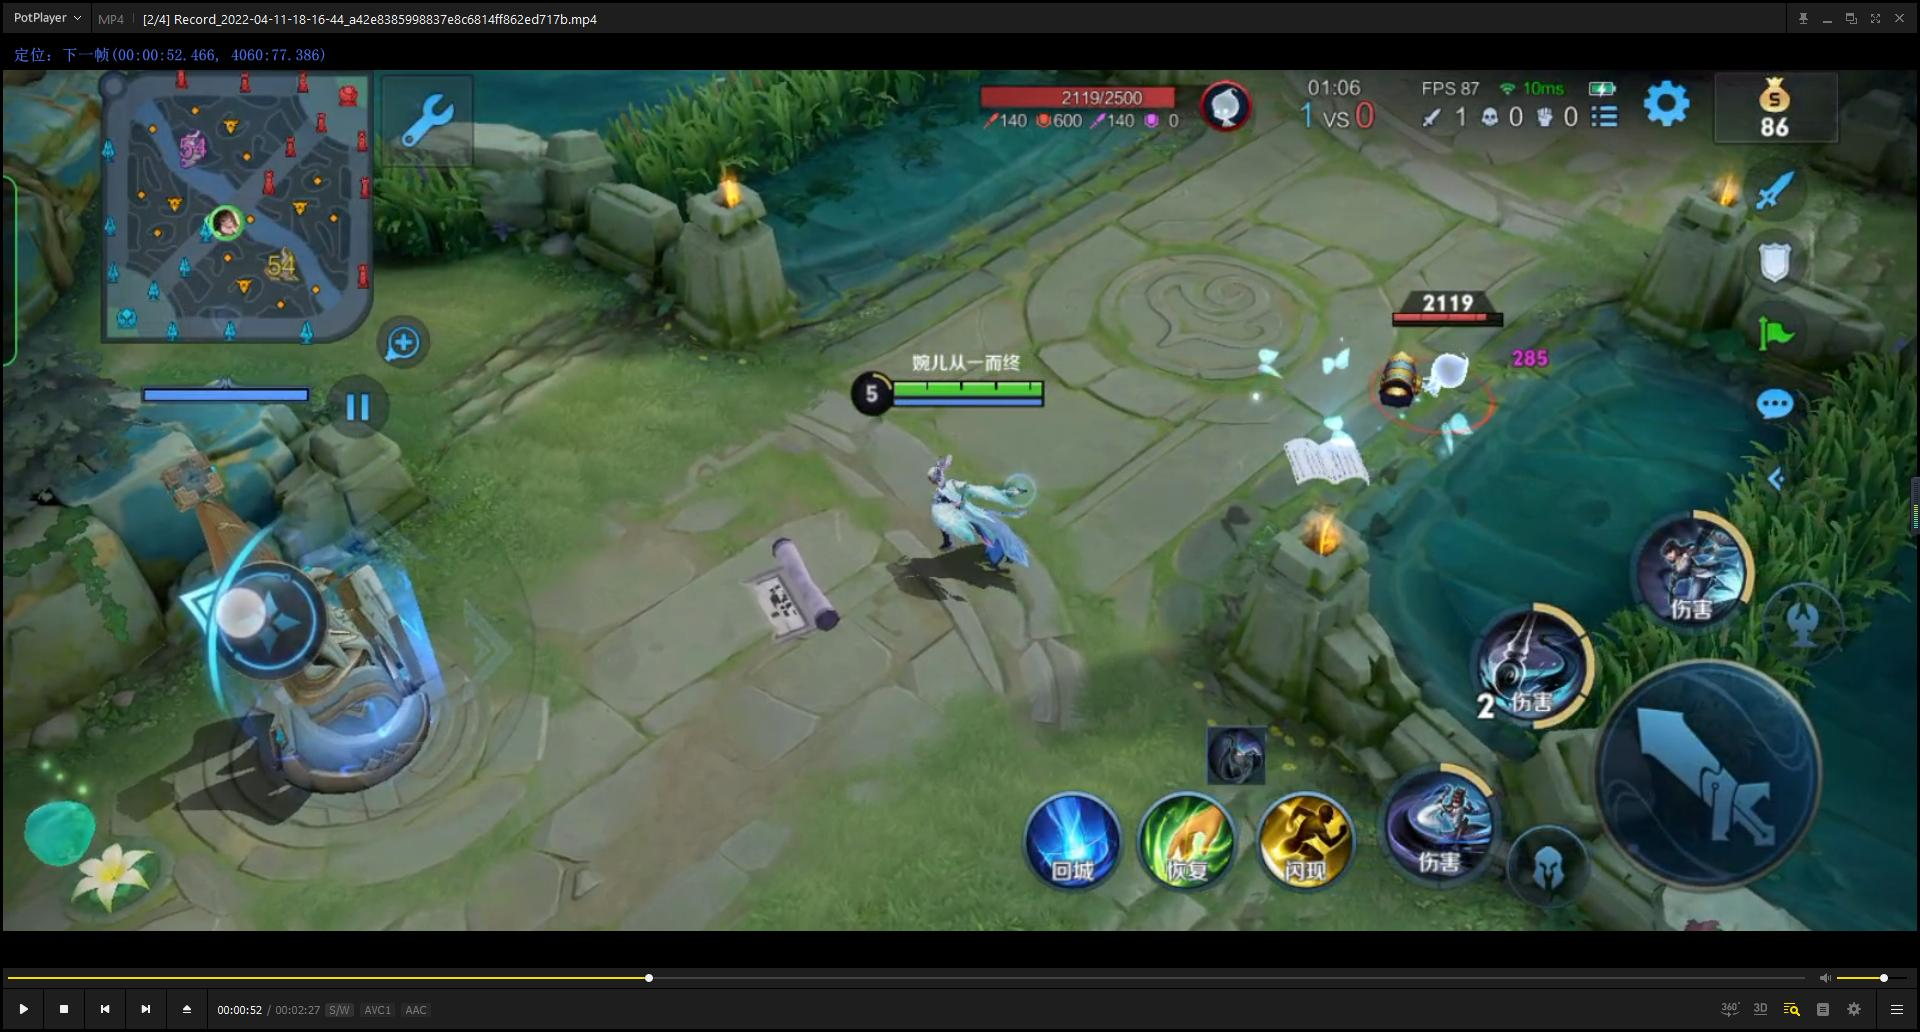Hero: (900, 440, 1046, 595)
Spirit: (1341, 282, 1546, 432)
Tower: (152, 362, 454, 845)
